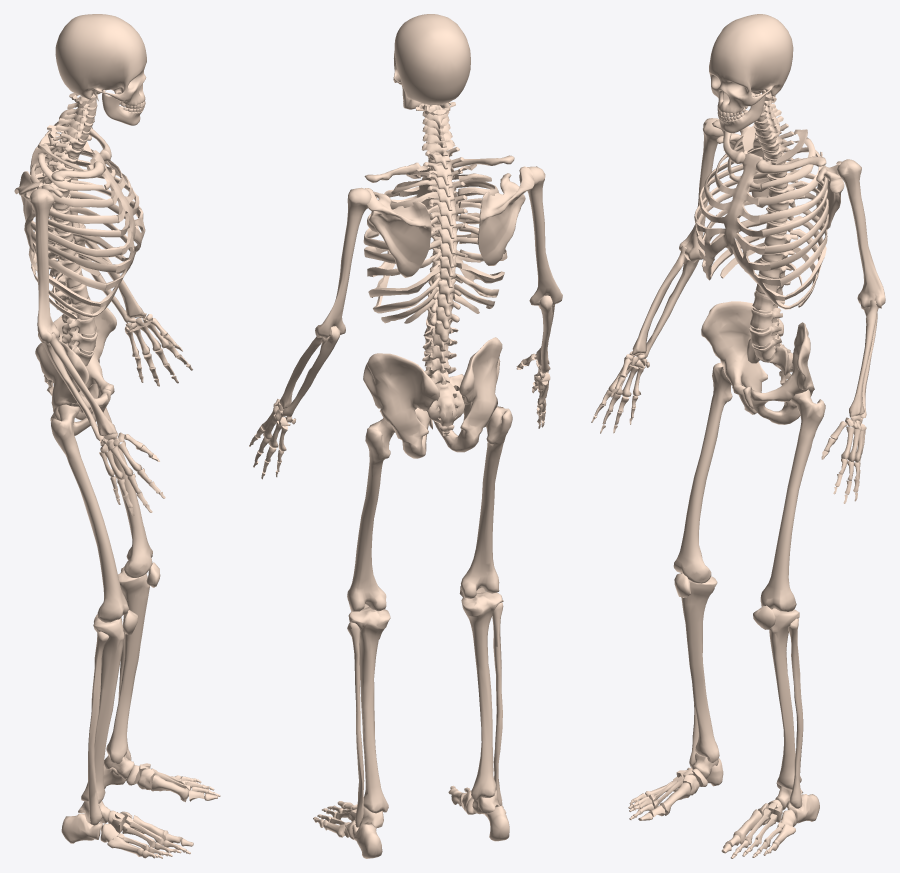
The model's file is Bone_test.glb.
The picture shows the model from 3 angles, left to right: view 1: azimuth 30°, elevation 25°; view 2: azimuth 150°, elevation 25°; view 3: azimuth 270°, elevation 25°; orthographic projection. The views are drawn at different scales.
Parts seen in each view (by area): view 1: GG0119, GG0110, GG0124, GG0111, GG0125, GG0117, GG0122, GG0136, GG0115, GG0112, GG0121, GG0108 (+14 smaller); view 2: GG0117, GG0111, GG0124, GG0119, GG0121, GG0125, GG0110, GG0112, GG0128, GG0136, GG0108, GG0107 (+8 smaller); view 3: GG0119, GG0111, GG0110, GG0117, GG0124, GG0125, GG0122, GG0128, GG0115, GG0112, GG0121, GG0136 (+15 smaller).
Part boxes in pixels (box(x1,y1,x2,y2)): GG0119: box(28, 125, 141, 319); GG0110: box(55, 14, 146, 108); GG0124: box(81, 566, 149, 803); GG0111: box(51, 384, 152, 622); GG0125: box(40, 124, 97, 366); GG0117: box(35, 301, 116, 435); GG0122: box(86, 150, 145, 317); GG0136: box(29, 188, 59, 344); GG0115: box(107, 768, 190, 856); GG0112: box(88, 615, 131, 825); GG0121: box(14, 119, 91, 252); GG0108: box(55, 93, 97, 140); GG0117: box(363, 337, 502, 458); GG0111: box(347, 406, 512, 611); GG0124: box(348, 592, 503, 813); GG0119: box(363, 163, 507, 323); GG0121: box(365, 166, 534, 277); GG0125: box(422, 147, 467, 384); GG0110: box(393, 14, 470, 104); GG0112: box(347, 602, 503, 827); GG0128: box(315, 187, 371, 338); GG0136: box(519, 166, 562, 308); GG0108: box(415, 102, 455, 156); GG0107: box(352, 805, 509, 858); GG0119: box(694, 118, 828, 308); GG0111: box(673, 363, 825, 611); GG0110: box(709, 14, 793, 117); GG0117: box(701, 301, 814, 424); GG0124: box(681, 573, 801, 789); GG0125: box(749, 123, 804, 361); GG0122: box(696, 150, 790, 309); GG0128: box(837, 159, 885, 309); GG0115: box(645, 776, 795, 848); GG0112: box(689, 618, 803, 808); GG0121: box(716, 126, 844, 230); GG0136: box(679, 118, 723, 262).
Bounding box in the file's own units: 0.2874 × 0.9628 × 0.3262.
